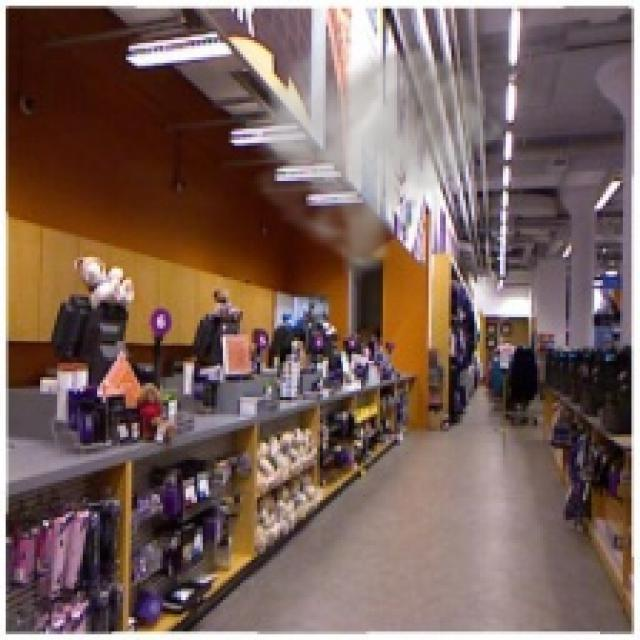Smoke: (246, 20, 508, 289)
